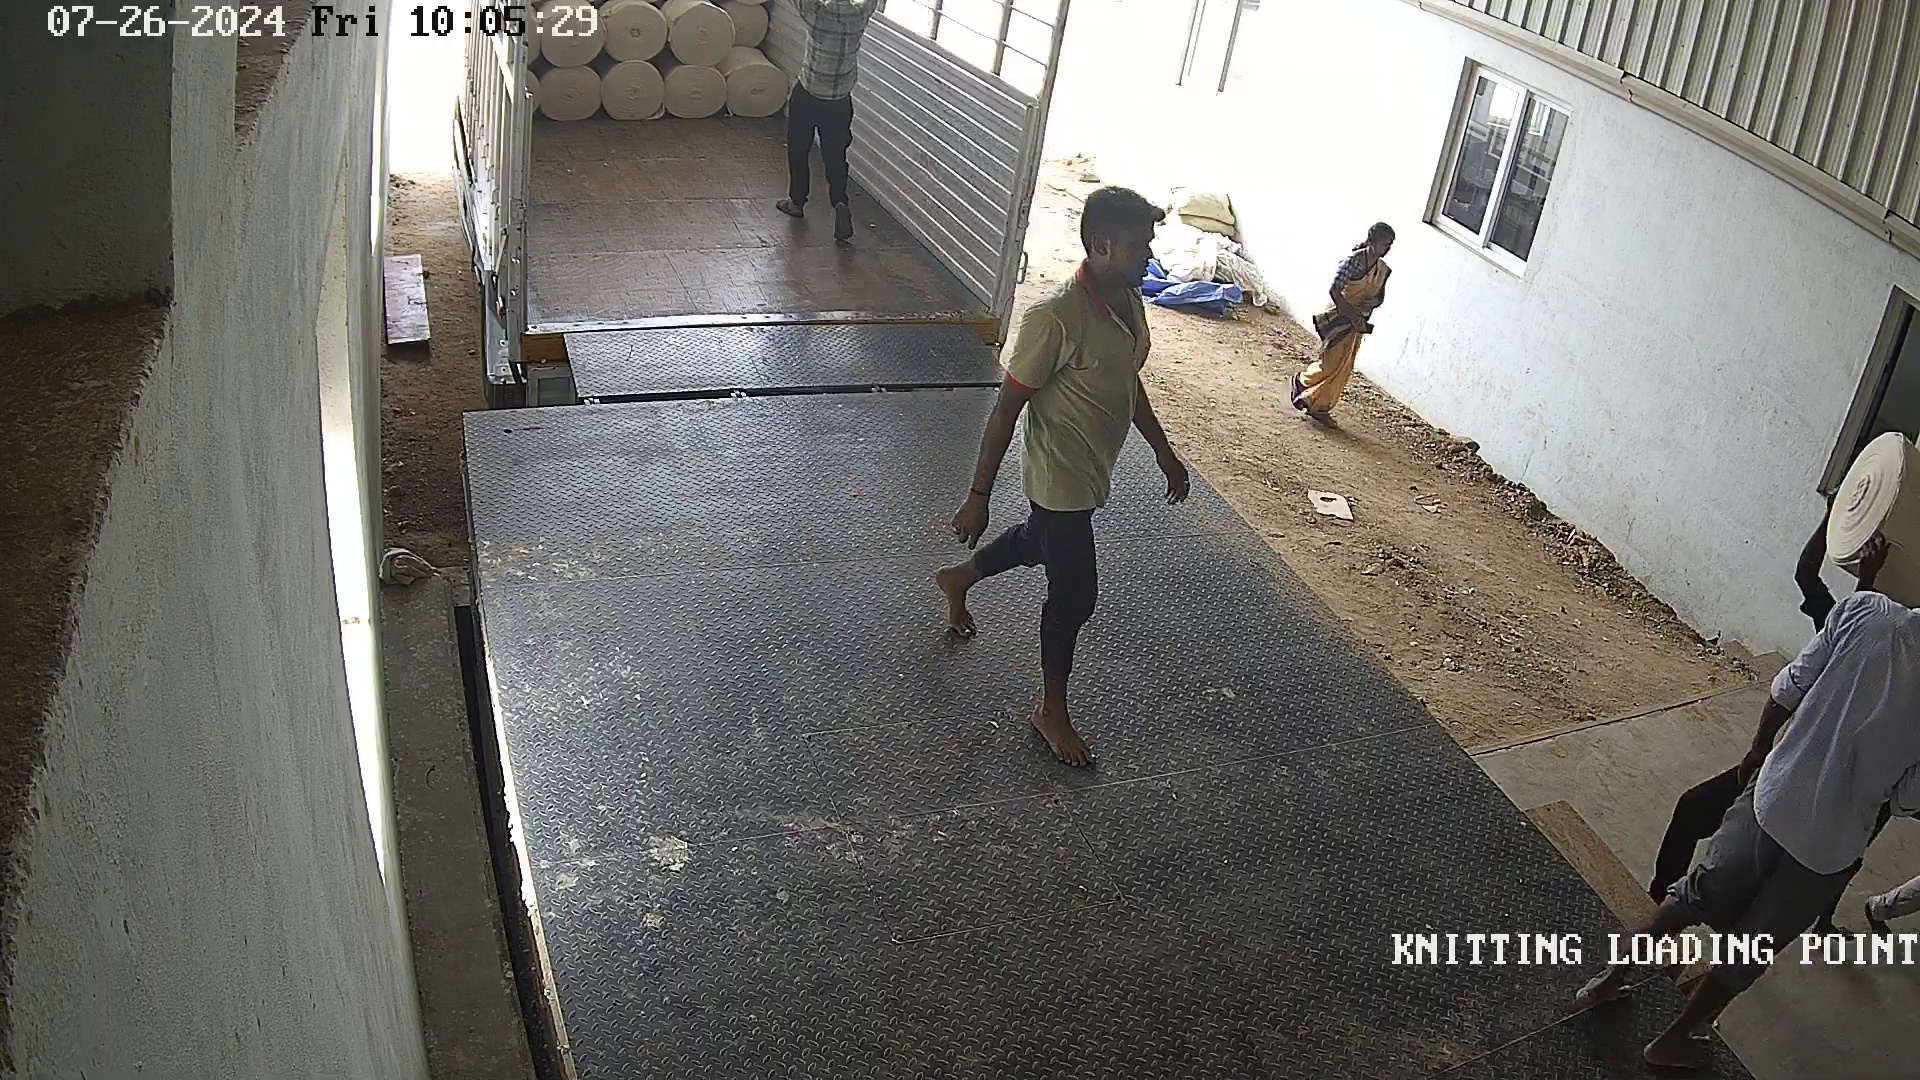bag: (1820, 429, 1920, 589)
